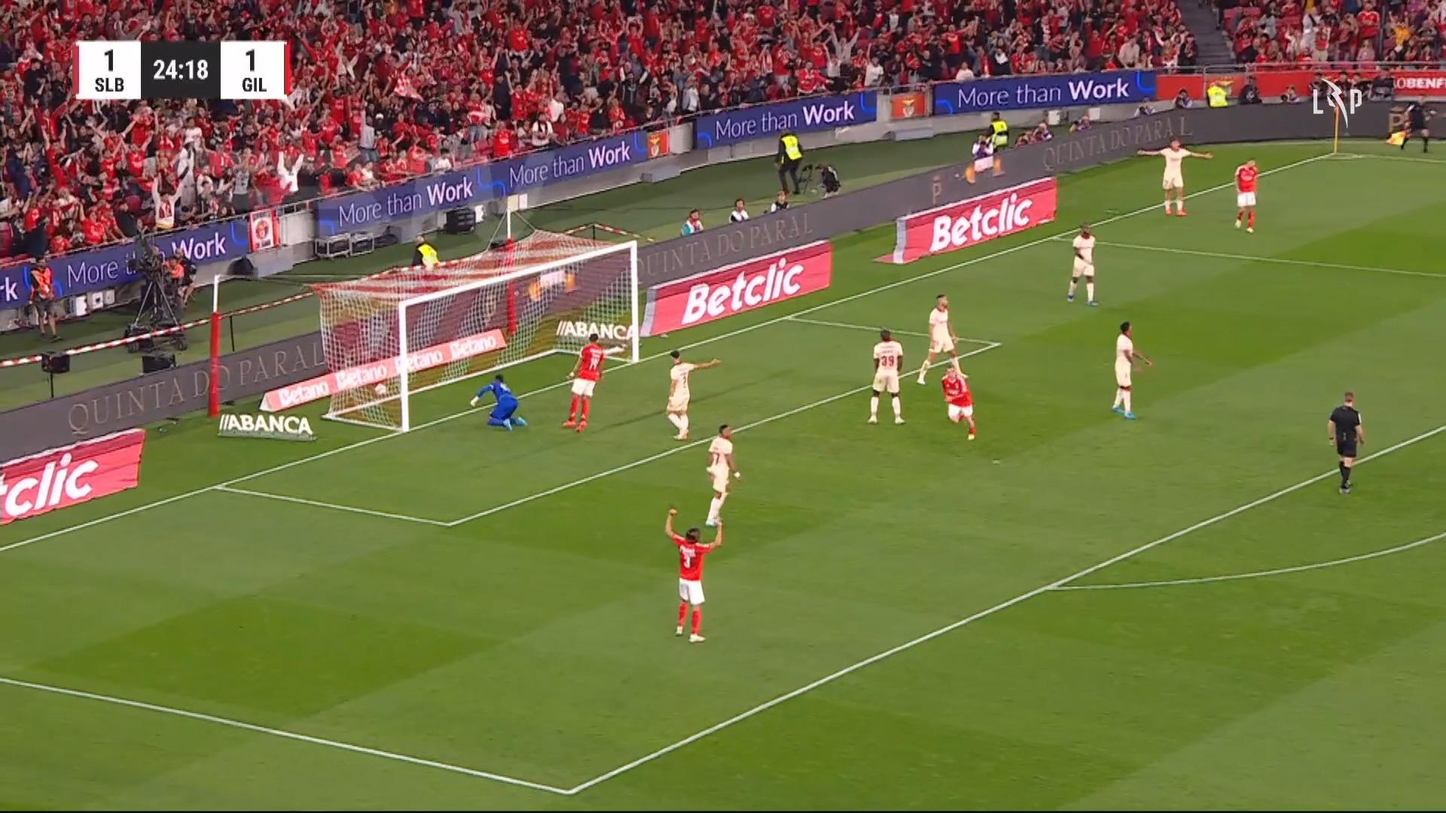ball: (374, 382, 387, 396)
goalkeeper: (469, 373, 528, 431)
player: (663, 507, 723, 643), (561, 332, 624, 434), (1136, 136, 1213, 217), (664, 349, 721, 440), (1111, 321, 1153, 419), (917, 294, 962, 385), (704, 423, 741, 526), (867, 328, 905, 425), (1066, 221, 1099, 306), (941, 363, 976, 440), (1233, 158, 1258, 233)
referee: (1326, 391, 1365, 494), (1389, 93, 1431, 160)
